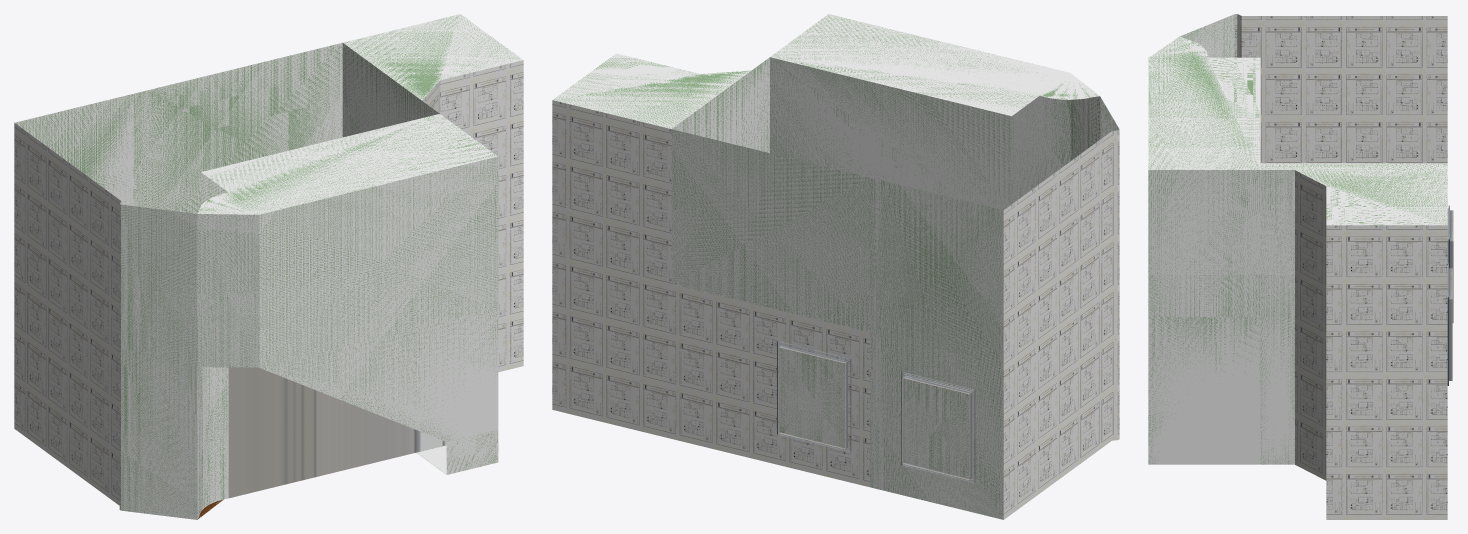
Rendered from Loft_Tmp.dae.
The picture shows the model from 3 angles, left to right: view 1: azimuth 30°, elevation 25°; view 2: azimuth 150°, elevation 25°; view 3: azimuth 270°, elevation 25°; orthographic projection. The views are drawn at different scales.
Visible parts, largest first — view 1: SketchUp (×4); view 2: SketchUp (×5), instance_0, instance_1; view 3: SketchUp (×3), instance_1.
Boxes of the visible parts, bbox=[...] form: SketchUp (×4): bbox=[14, 14, 523, 519]; SketchUp (×5): bbox=[552, 14, 1119, 519]; instance_0: bbox=[902, 375, 972, 480]; instance_1: bbox=[778, 345, 847, 449]; SketchUp (×3): bbox=[1148, 14, 1447, 519]; instance_1: bbox=[1449, 268, 1452, 380].
Bounding box in the file's own units: 2181 × 1331 × 1417.
9 materials, 5 textured.
